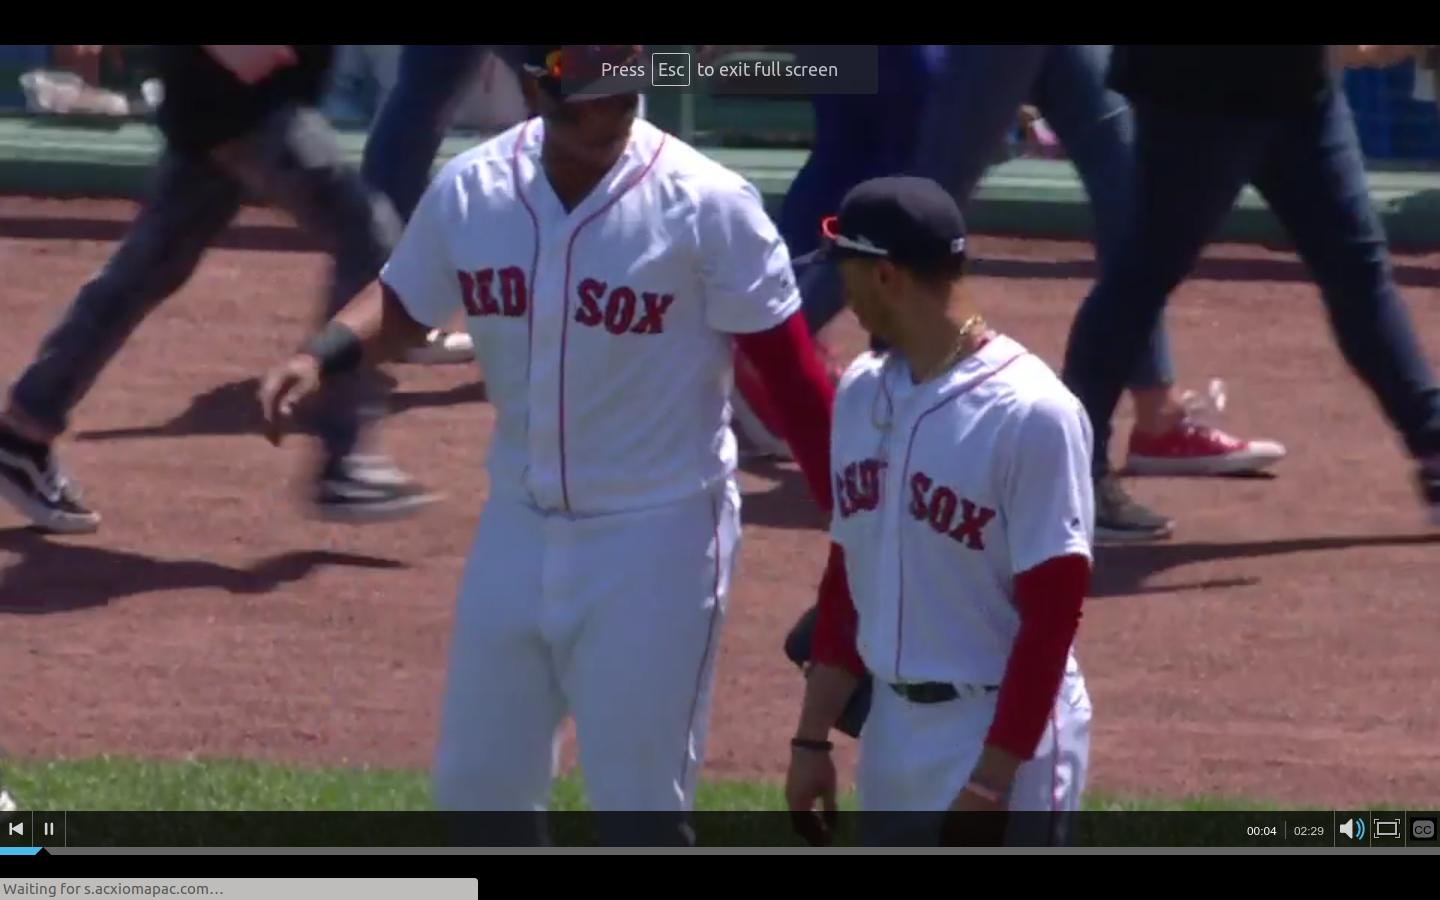baseball player: (253, 45, 830, 814), (788, 174, 1101, 809)
